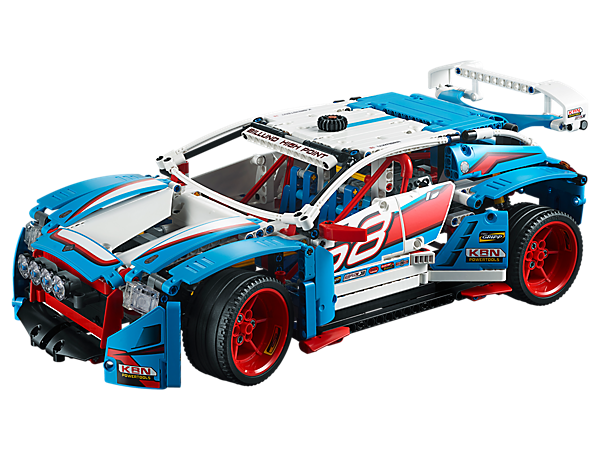car: (6, 63, 600, 397)
